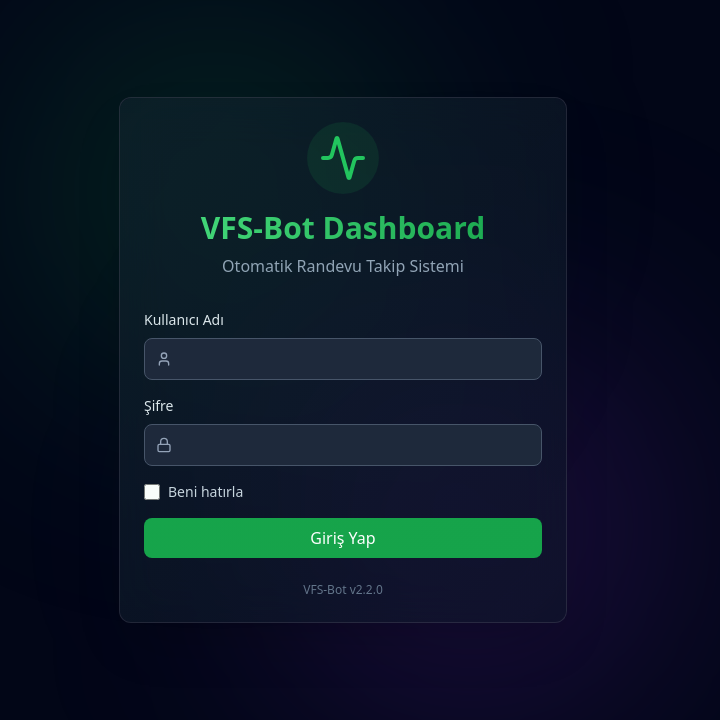
Login › shows loading state during login
Type "testuser" into the field labelled "Kullanıcı Adı" at (343, 359), box [144,338,542,380]
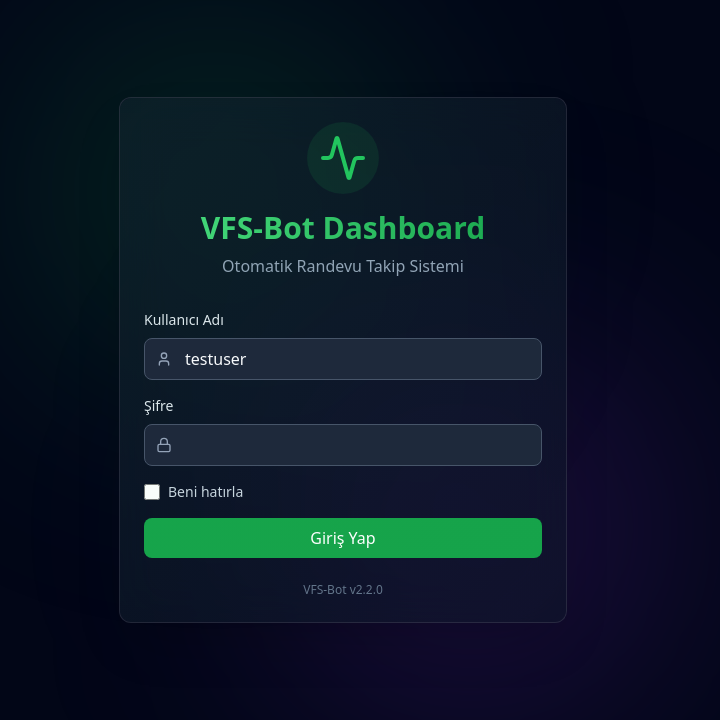
Type "password123" into the password field labelled "Şifre" at (343, 445), box [144,424,542,466]
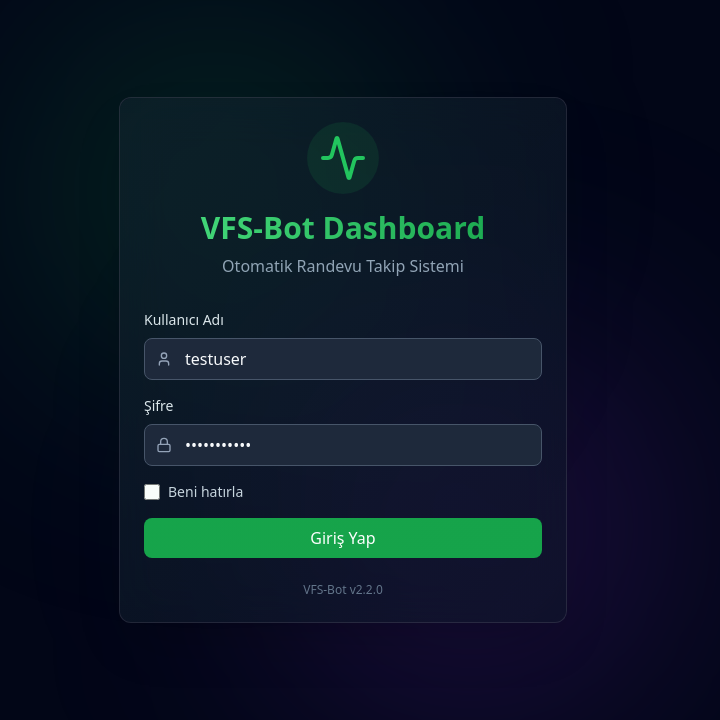
Click the button "Giriş Yap" at (343, 538), box [144,518,542,558]
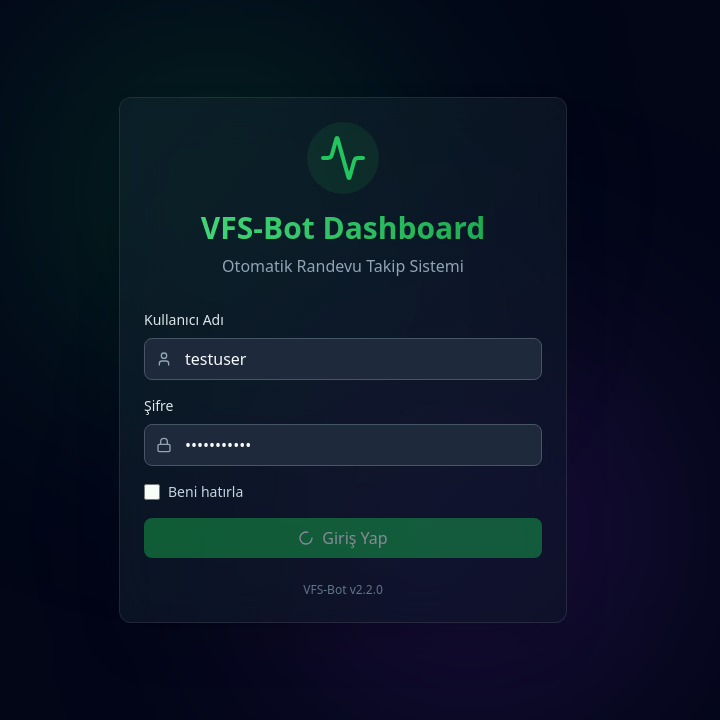
Now the button "Giriş Yap" is disabled, box [144,518,542,558]
